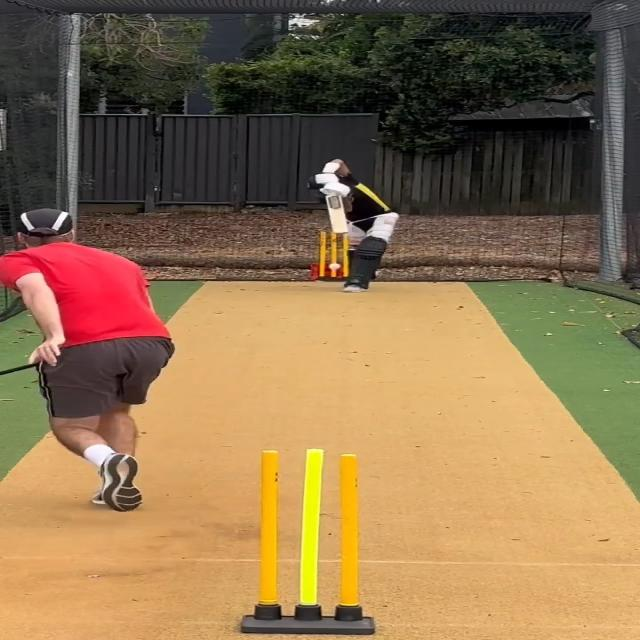ball: (328, 262, 342, 270)
stump: (238, 446, 375, 635), (319, 231, 351, 283)
